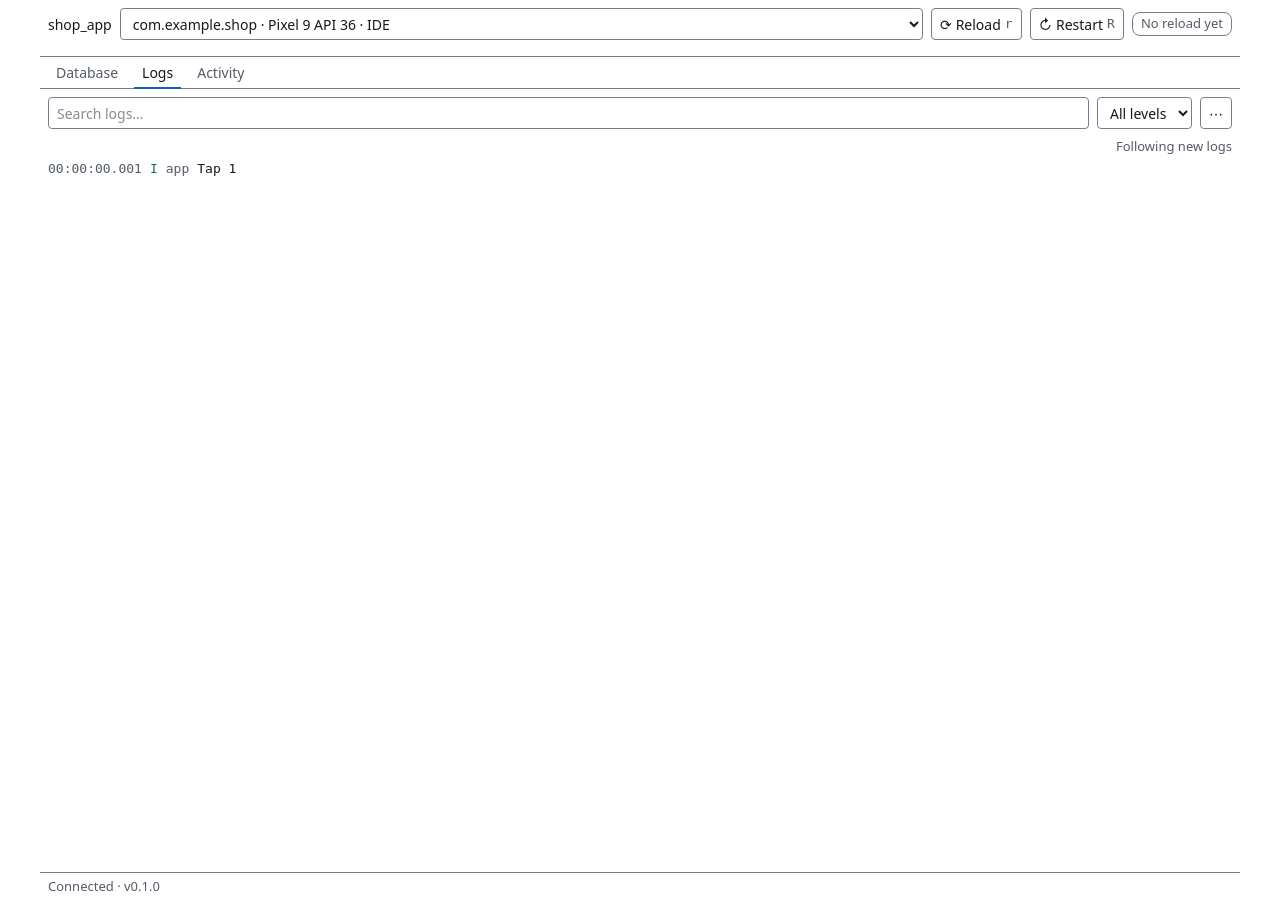
Test: focus order and dialogs › Escape closes the ⋯ menu and gives focus back to its button
This screenshot has width=1280, height=900.
Check: the text "shop_app" is shown, box [48,14,112,34]
Step 1. Click the button named "More log options" → click(1216, 113), box [1200,97,1232,129]
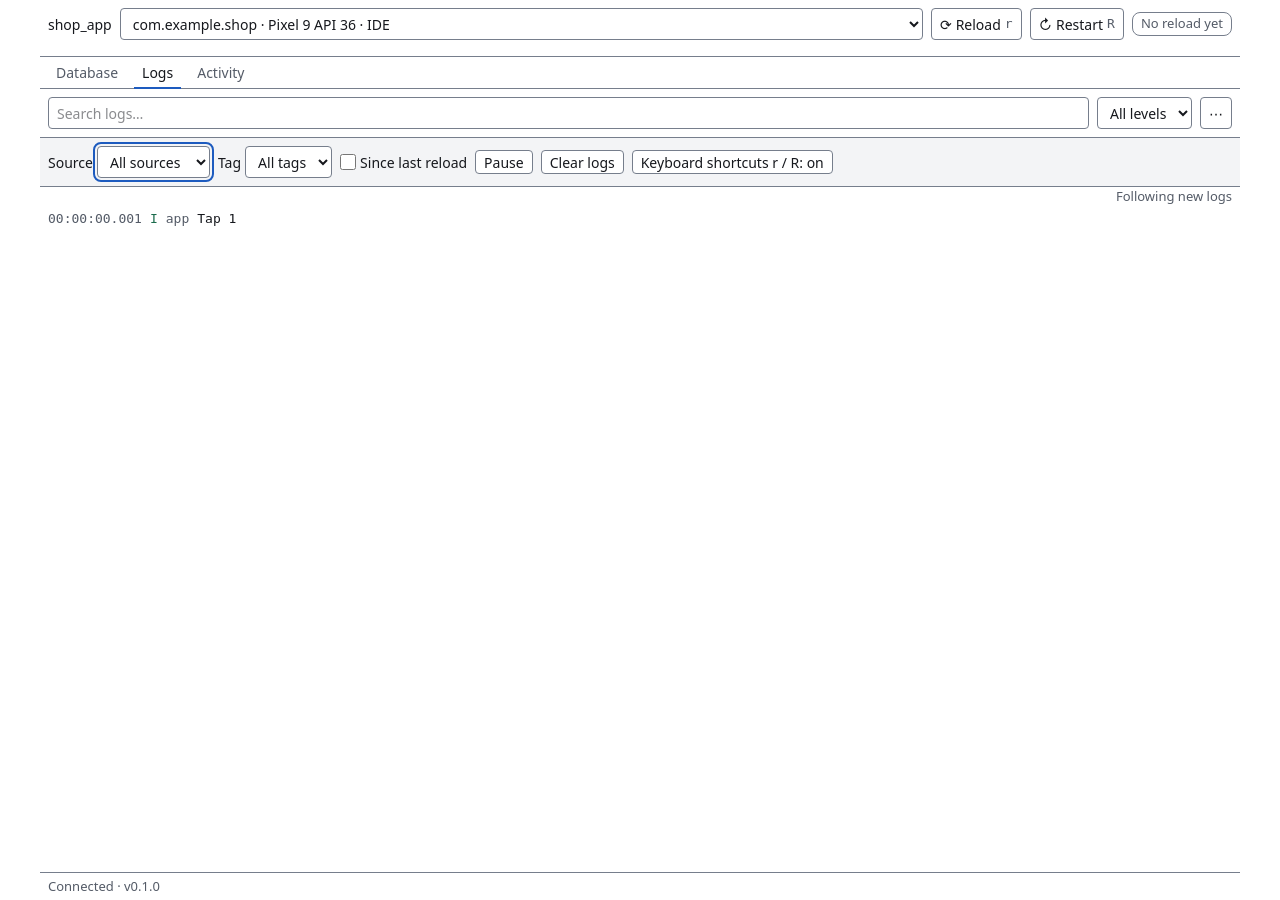
Step 2. Press Escape
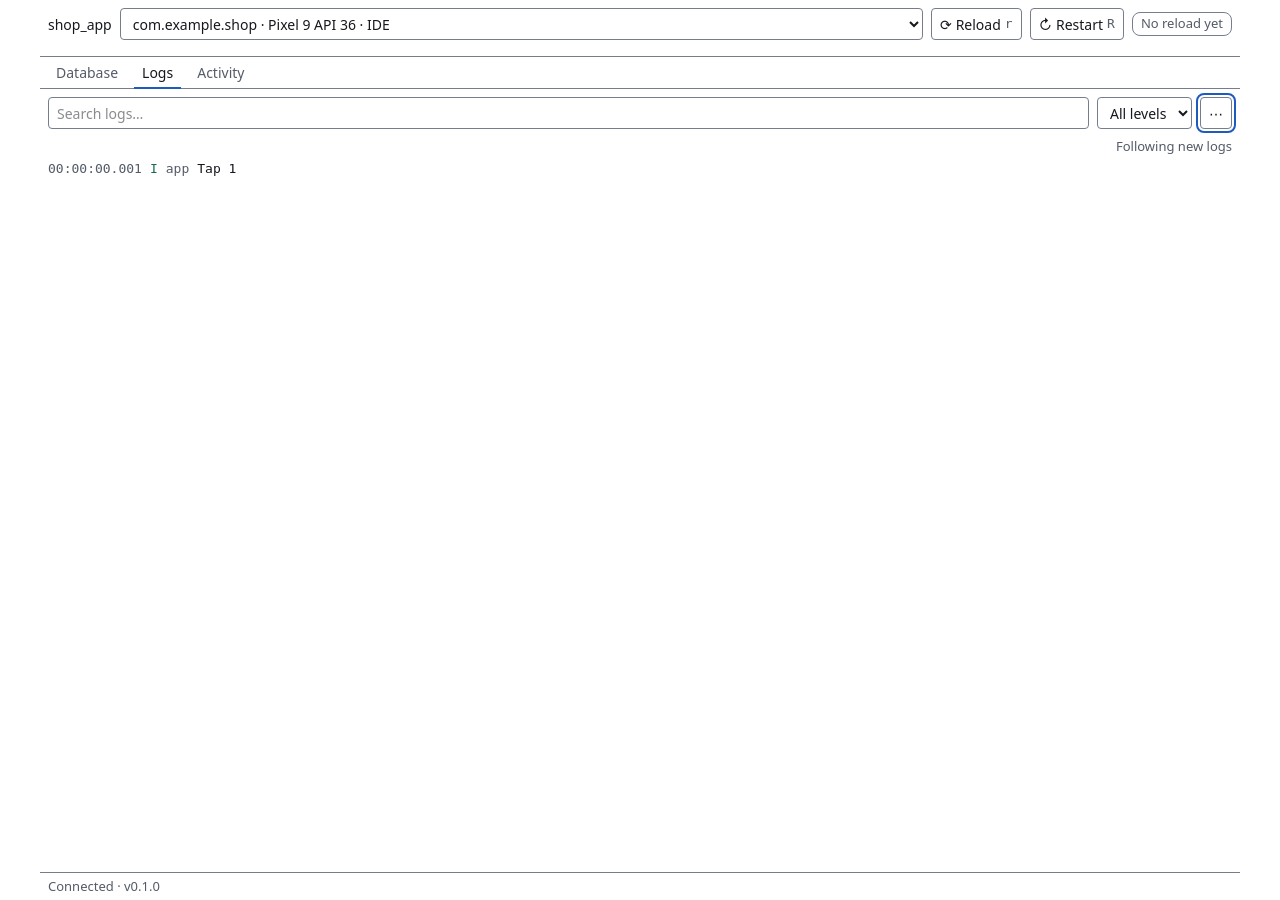
Check: the switch is gone
